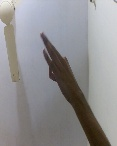hand: (38, 31, 83, 105)
